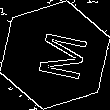M_W: (25, 27, 85, 83)
